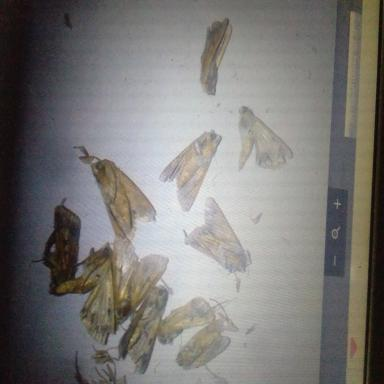abw: (73, 145, 157, 242), (112, 234, 168, 330), (158, 130, 222, 212), (184, 196, 249, 274), (114, 284, 170, 372), (31, 196, 81, 293), (176, 297, 236, 369), (237, 104, 292, 174), (79, 250, 117, 346), (54, 240, 112, 298), (200, 16, 232, 94)
